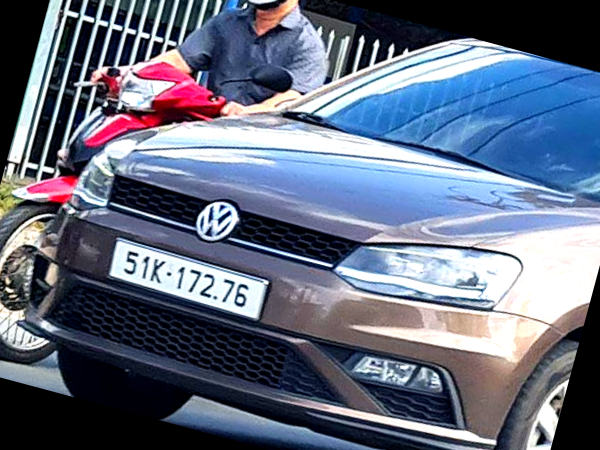lisence: (108, 238, 268, 322)
